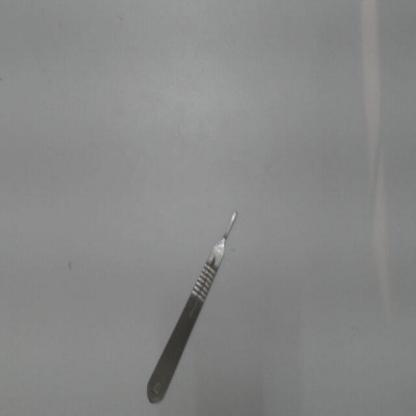No.3 BP Handle: (135, 198, 253, 410)
